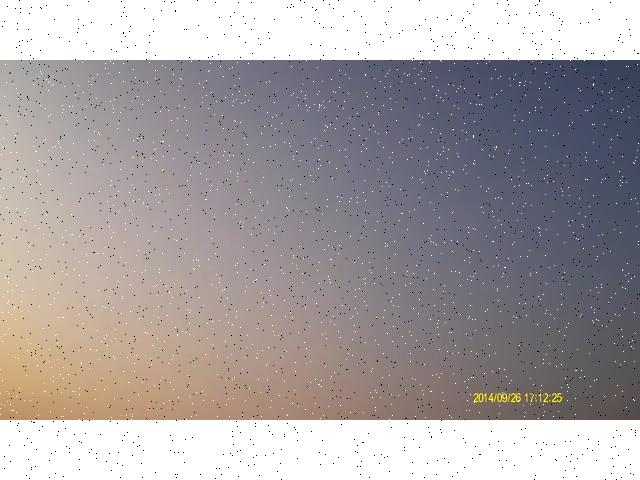Anti-Drone: (310, 205, 334, 223)
